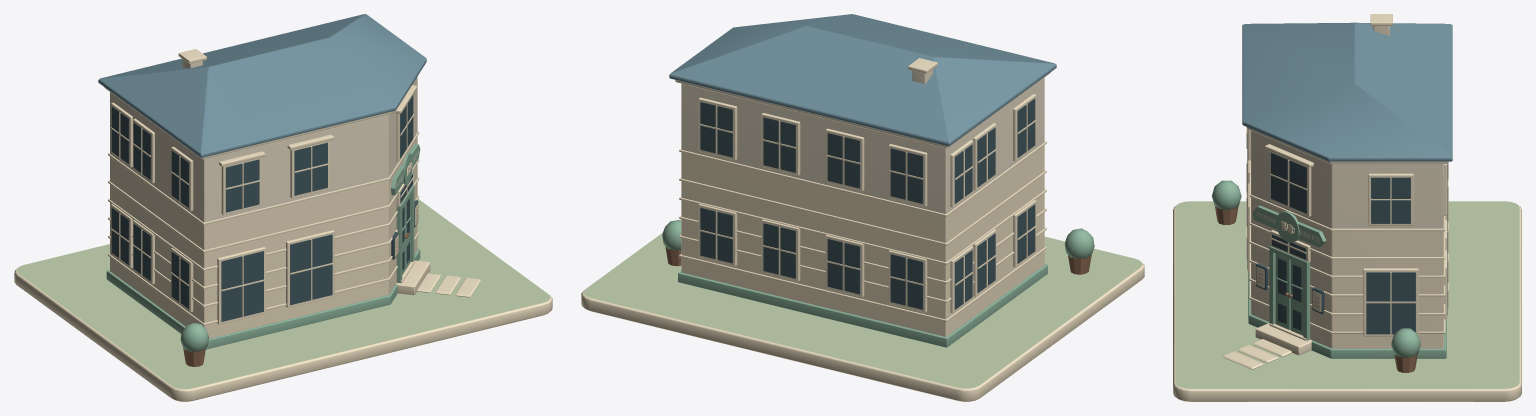
Rendered from rulki-vverh.glb.
3 renders of one model, left to right at view 1: azimuth 30°, elevation 25°; view 2: azimuth 150°, elevation 25°; view 3: azimuth 270°, elevation 25°, orthographic. The views are drawn at different scales.
Parts seen in each view (by area): view 1: rulki-vverh · soft low-poly; view 2: rulki-vverh · soft low-poly; view 3: rulki-vverh · soft low-poly.
Boxes of the visible parts, left/top/right/bottom form: rulki-vverh · soft low-poly: left=14, top=14, right=552, bottom=401; rulki-vverh · soft low-poly: left=581, top=14, right=1144, bottom=401; rulki-vverh · soft low-poly: left=1173, top=14, right=1521, bottom=401.
Bounding box in the file's own units: 7.2 × 4.49 × 5.6.
